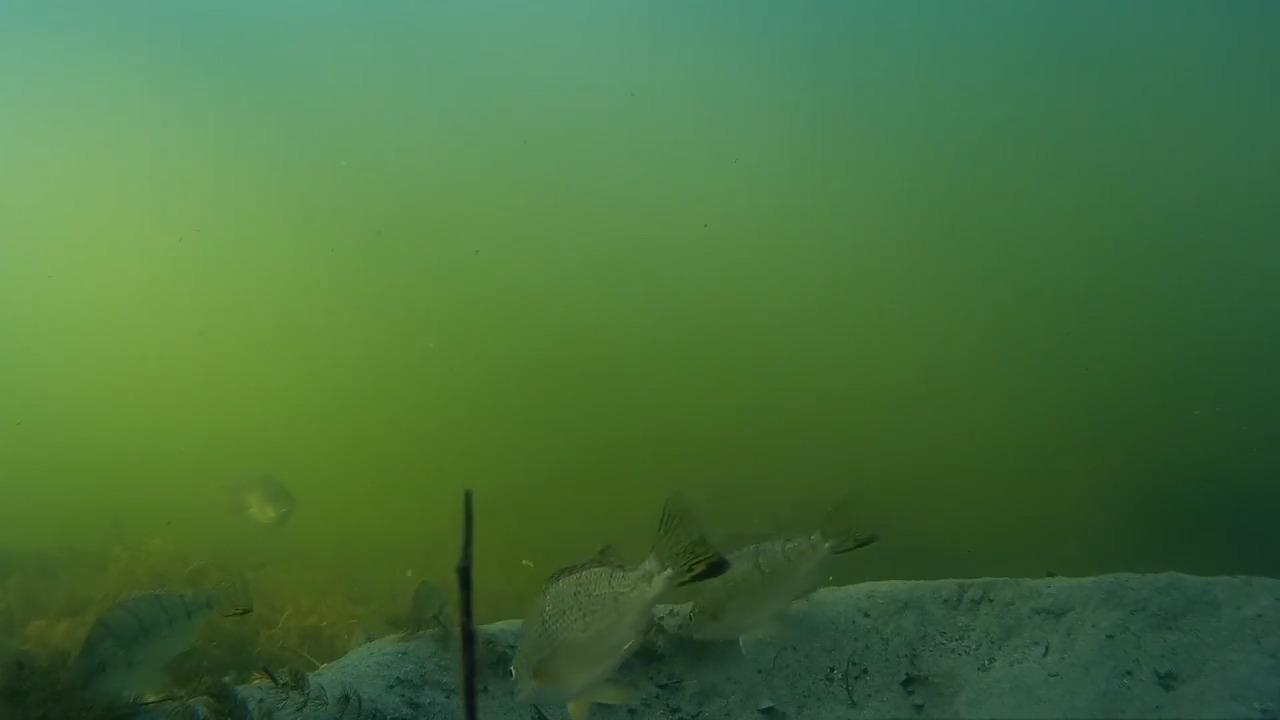Tilapia: (497, 490, 738, 707), (672, 490, 911, 670), (6, 578, 264, 718), (213, 475, 304, 540)
